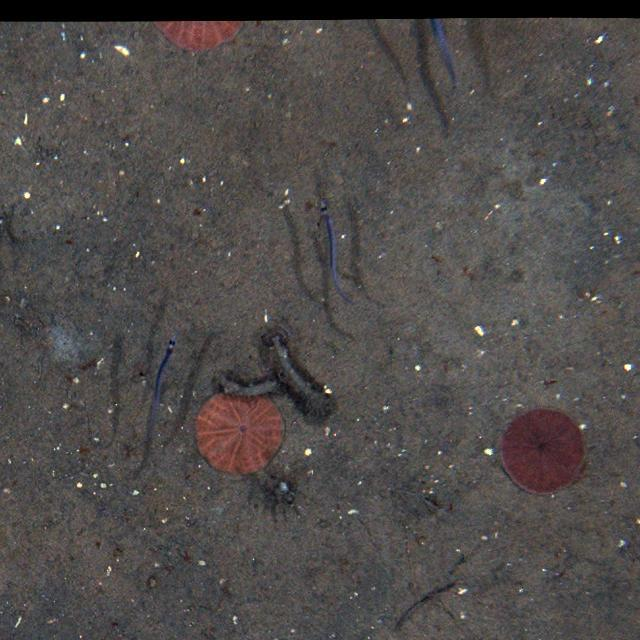roundfish: (313, 195, 360, 306), (147, 333, 177, 468), (426, 18, 465, 96)
